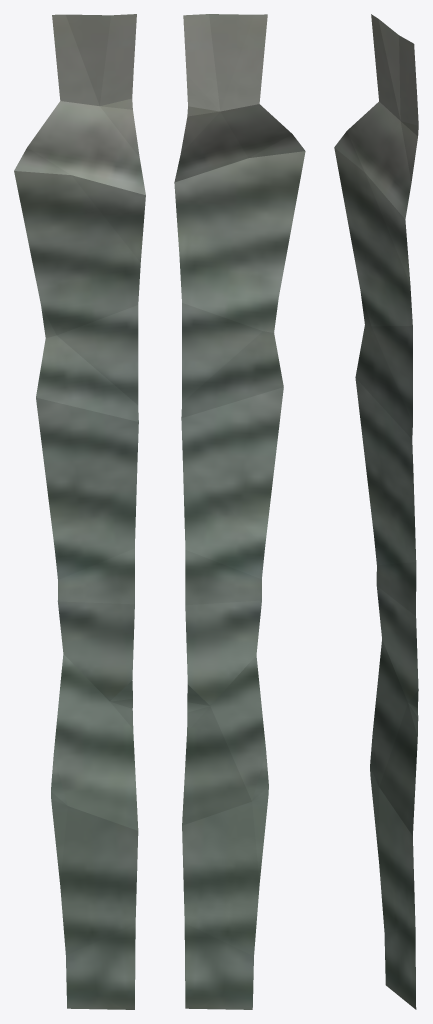
3 views of the same model, side by side, from view 1: azimuth 30°, elevation 25°; view 2: azimuth 210°, elevation 25°; view 3: azimuth 330°, elevation 25° (orthographic). The views are drawn at different scales.
Bounding box in the file's own units: 0.0902 × 0.8374 × 0.0445.
1 material, 1 textured.
